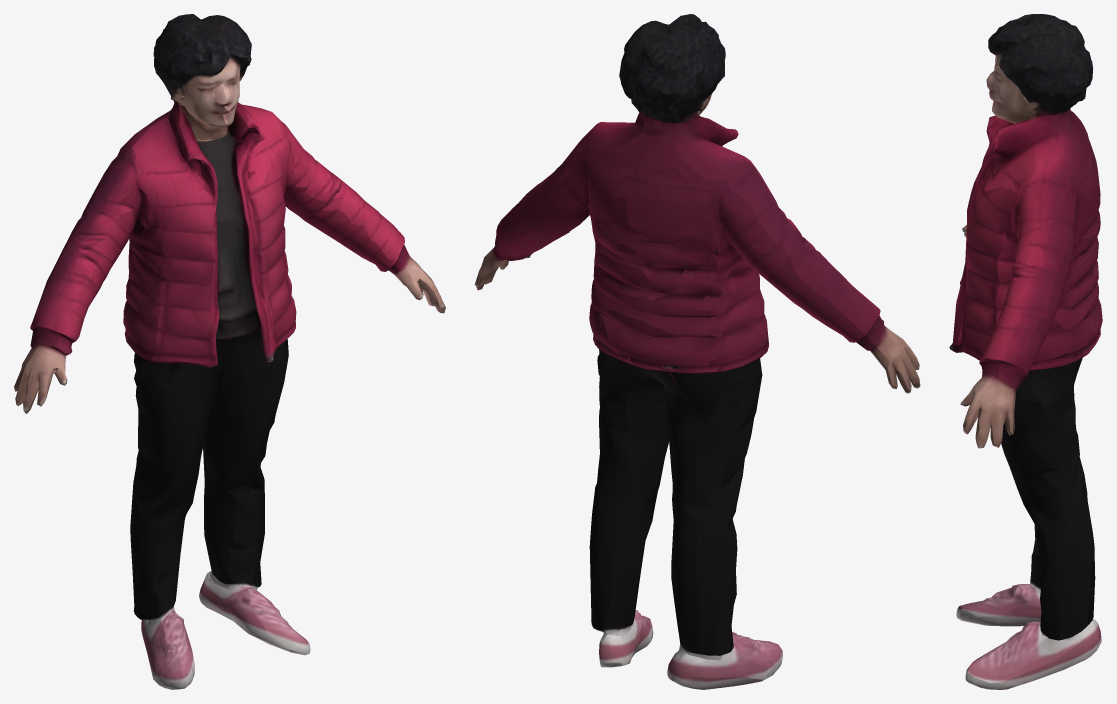
File: auntie.glb
3 renders of one model, left to right at view 1: azimuth 30°, elevation 25°; view 2: azimuth 150°, elevation 25°; view 3: azimuth 270°, elevation 25°, orthographic. The views are drawn at different scales.
Visible parts, largest first — view 1: world; view 2: world; view 3: world.
Boxes of the visible parts, <box> form: world: <box>14,14,445,689</box>; world: <box>474,14,920,689</box>; world: <box>949,14,1102,689</box>.
Bounding box in the file's own units: 1.19 × 1.71 × 0.3762.
1 material, 1 textured.
